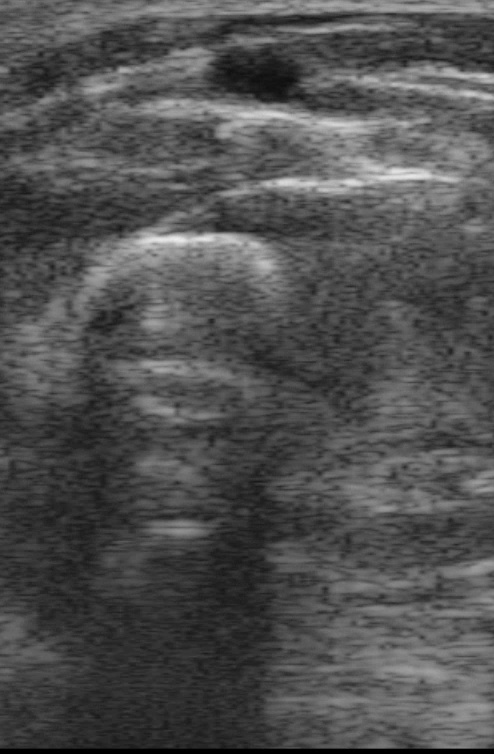veins_detect: (201, 38, 312, 110)
veins_seg: (214, 41, 302, 102)
